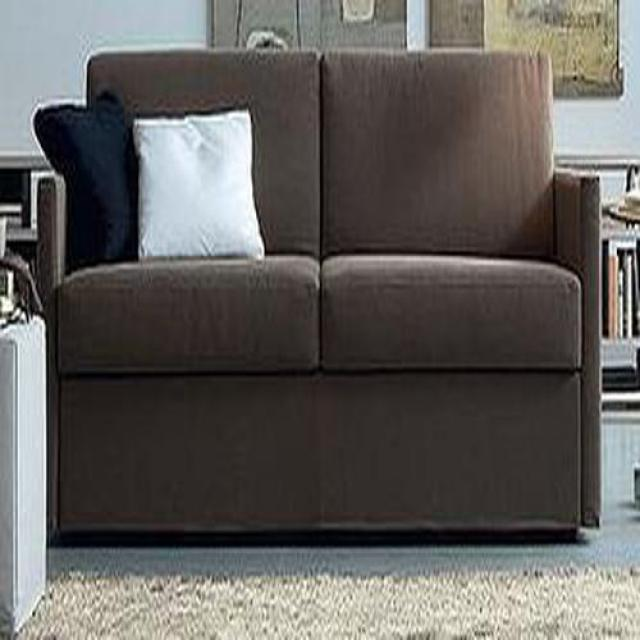sofa: (31, 47, 603, 550)
